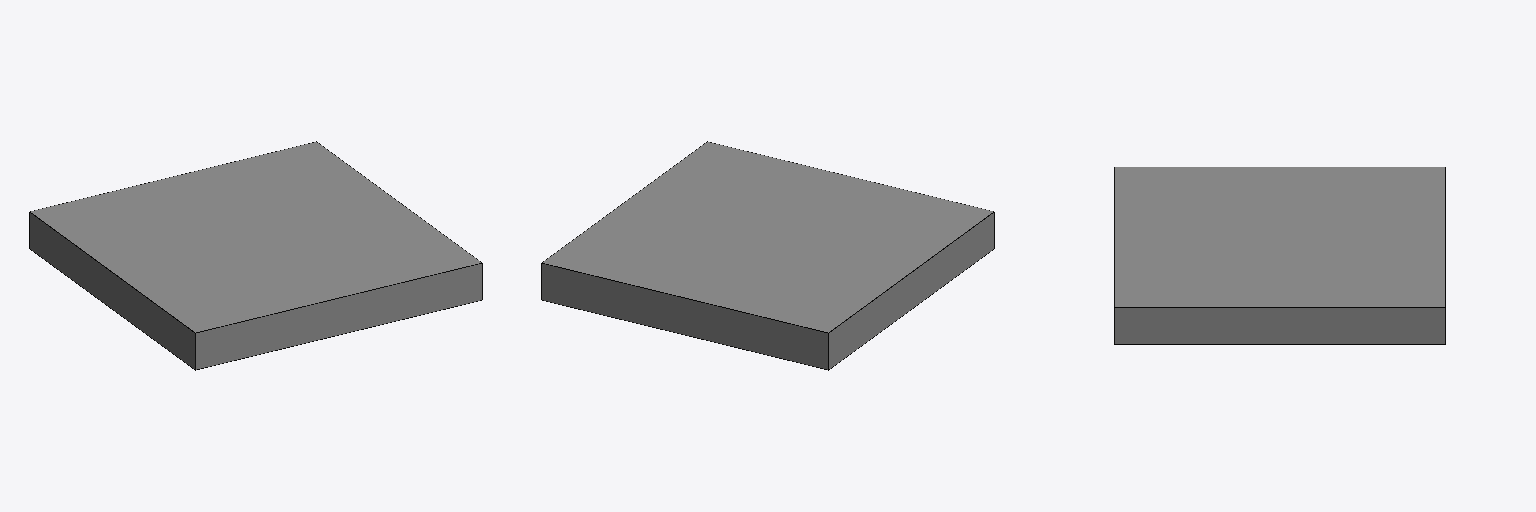
3 views of the same model, side by side, from view 1: azimuth 30°, elevation 25°; view 2: azimuth 150°, elevation 25°; view 3: azimuth 270°, elevation 25° (orthographic).
Parts seen in each view (by area): view 1: bulkHead_floor_flat_Cube.003; view 2: bulkHead_floor_flat_Cube.003; view 3: bulkHead_floor_flat_Cube.003.
Part boxes in pixels (x1,y1,x2,y2): bulkHead_floor_flat_Cube.003: (29, 141, 482, 370); bulkHead_floor_flat_Cube.003: (541, 141, 994, 370); bulkHead_floor_flat_Cube.003: (1114, 167, 1445, 344).
Bounding box in the file's own units: 2 × 0.25 × 2.
1 materials, 1 textured.